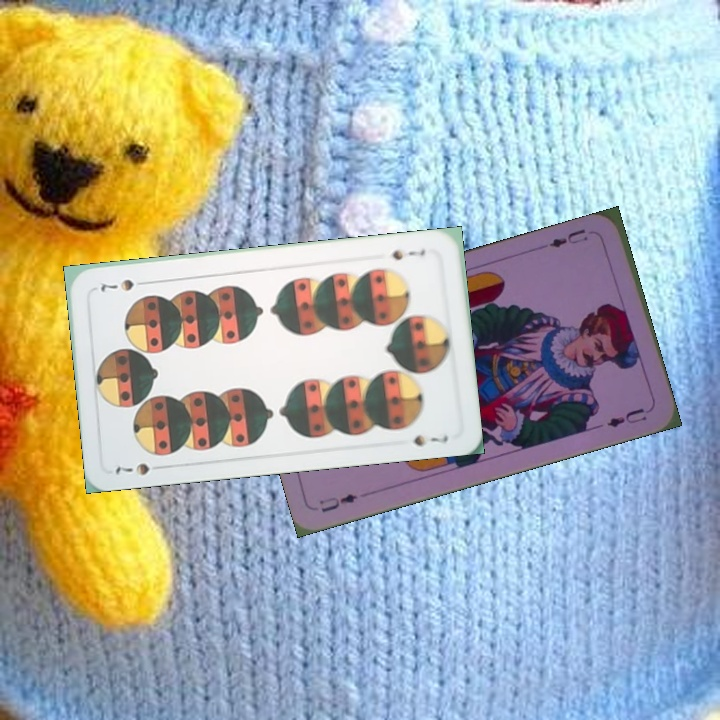EU: (545, 225, 599, 251), (315, 489, 360, 515)
S7: (109, 459, 152, 480), (388, 245, 428, 263)
